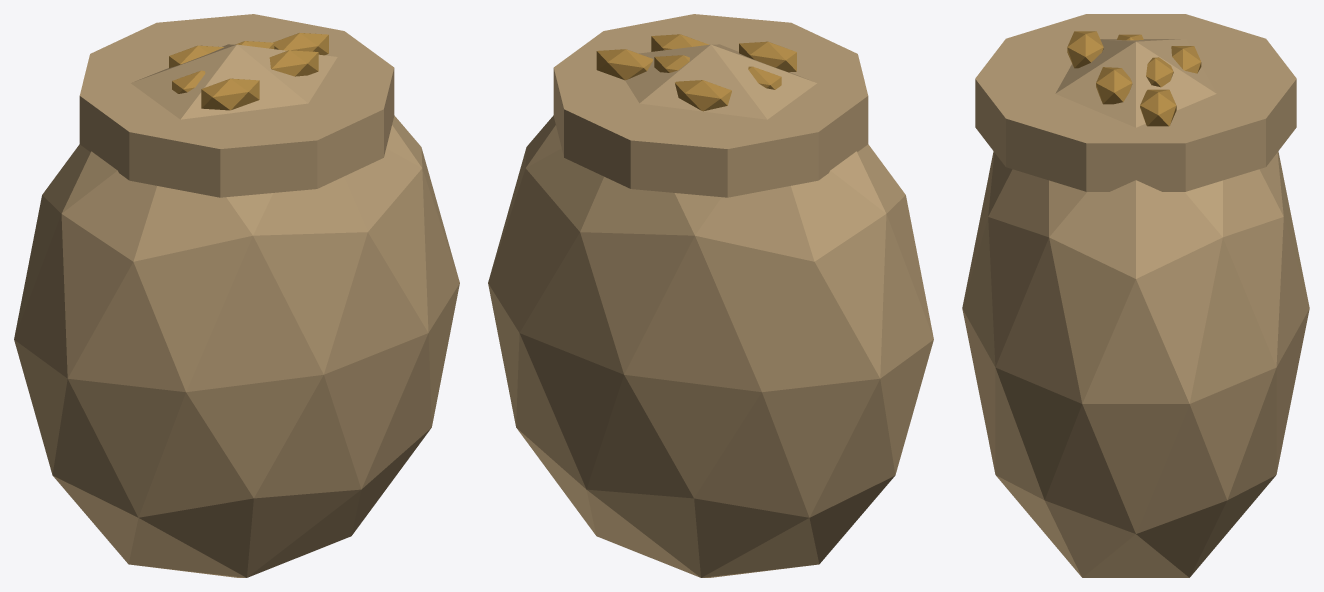
Rendered from pieza-villager-seeds-BH32-sdn.glb.
The picture shows the model from 3 angles, left to right: view 1: azimuth 30°, elevation 25°; view 2: azimuth 150°, elevation 25°; view 3: azimuth 270°, elevation 25°; orthographic projection.
Visible parts, largest first — view 1: bolsa_semillas, boca_bolsa, Icosphere.007, Icosphere.005, Icosphere.008, Icosphere.006; view 2: bolsa_semillas, boca_bolsa, Icosphere.008, Icosphere.006, Icosphere.007, Icosphere.005; view 3: bolsa_semillas, boca_bolsa, Icosphere.008, Icosphere.005, Icosphere.007, Icosphere.003, Icosphere.006.
Boxes of the visible parts, x1=… form: bolsa_semillas: x1=14, y1=44, x2=459, y2=577; boca_bolsa: x1=79, y1=14, x2=394, y2=197; Icosphere.007: x1=201, y1=78, x2=259, y2=110; Icosphere.005: x1=269, y1=50, x2=318, y2=76; Icosphere.008: x1=273, y1=33, x2=328, y2=55; Icosphere.006: x1=169, y1=45, x2=223, y2=68; bolsa_semillas: x1=488, y1=44, x2=933, y2=577; boca_bolsa: x1=553, y1=14, x2=868, y2=197; Icosphere.008: x1=596, y1=49, x2=653, y2=80; Icosphere.006: x1=675, y1=80, x2=731, y2=111; Icosphere.007: x1=739, y1=41, x2=796, y2=72; Icosphere.005: x1=651, y1=34, x2=708, y2=51; bolsa_semillas: x1=962, y1=39, x2=1309, y2=577; boca_bolsa: x1=975, y1=14, x2=1296, y2=191; Icosphere.008: x1=1140, y1=89, x2=1176, y2=126; Icosphere.005: x1=1096, y1=67, x2=1132, y2=104; Icosphere.007: x1=1067, y1=31, x2=1103, y2=68; Icosphere.003: x1=1146, y1=57, x2=1173, y2=87; Icosphere.006: x1=1171, y1=46, x2=1201, y2=73.
Bounding box in the file's own units: 1.86 × 2.41 × 1.43.
